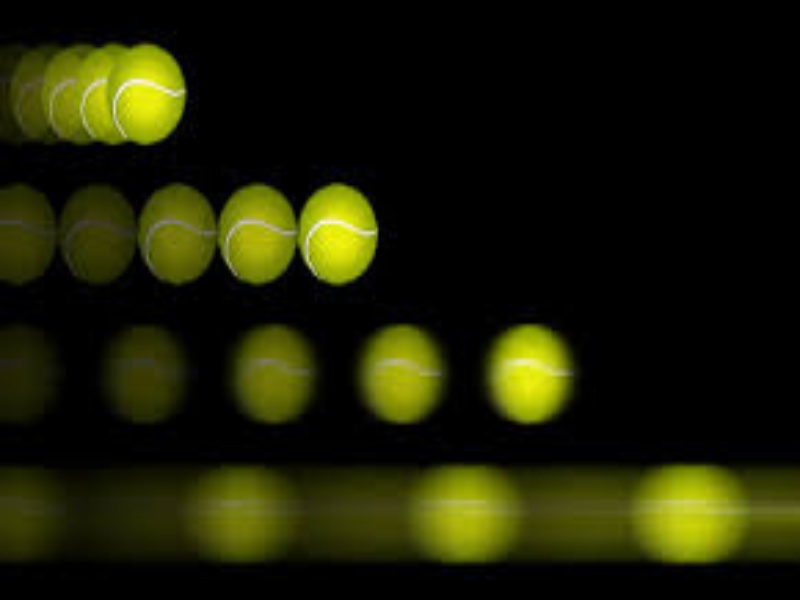tennis ball: (403, 453, 559, 584), (170, 454, 336, 566), (622, 452, 768, 572), (279, 174, 402, 299), (474, 305, 593, 434), (95, 42, 220, 156), (349, 325, 469, 432), (94, 324, 203, 436), (202, 189, 304, 300), (129, 183, 214, 311), (231, 315, 322, 431), (55, 179, 146, 290), (10, 50, 104, 150), (2, 176, 55, 300)
